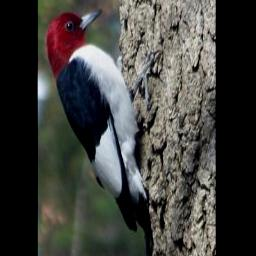Woodpecker: (45, 6, 165, 238)
